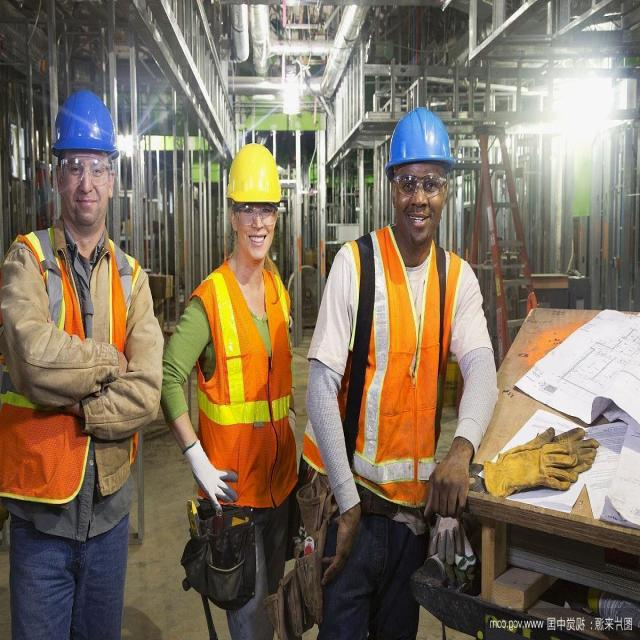face_nomask: (57, 150, 114, 233), (390, 164, 449, 242), (235, 200, 279, 259)
glasses: (59, 153, 112, 190), (393, 170, 448, 198), (234, 202, 279, 229)
hand_glove: (484, 414, 594, 508), (180, 436, 233, 505)
hand_noglove: (425, 436, 475, 518), (324, 497, 364, 582)
head_helmet: (52, 93, 114, 148), (388, 114, 452, 158), (231, 145, 279, 202)
person: (314, 109, 468, 635), (0, 101, 149, 628), (192, 150, 299, 640)
vest: (7, 247, 139, 501), (355, 254, 464, 488), (210, 260, 287, 494)
